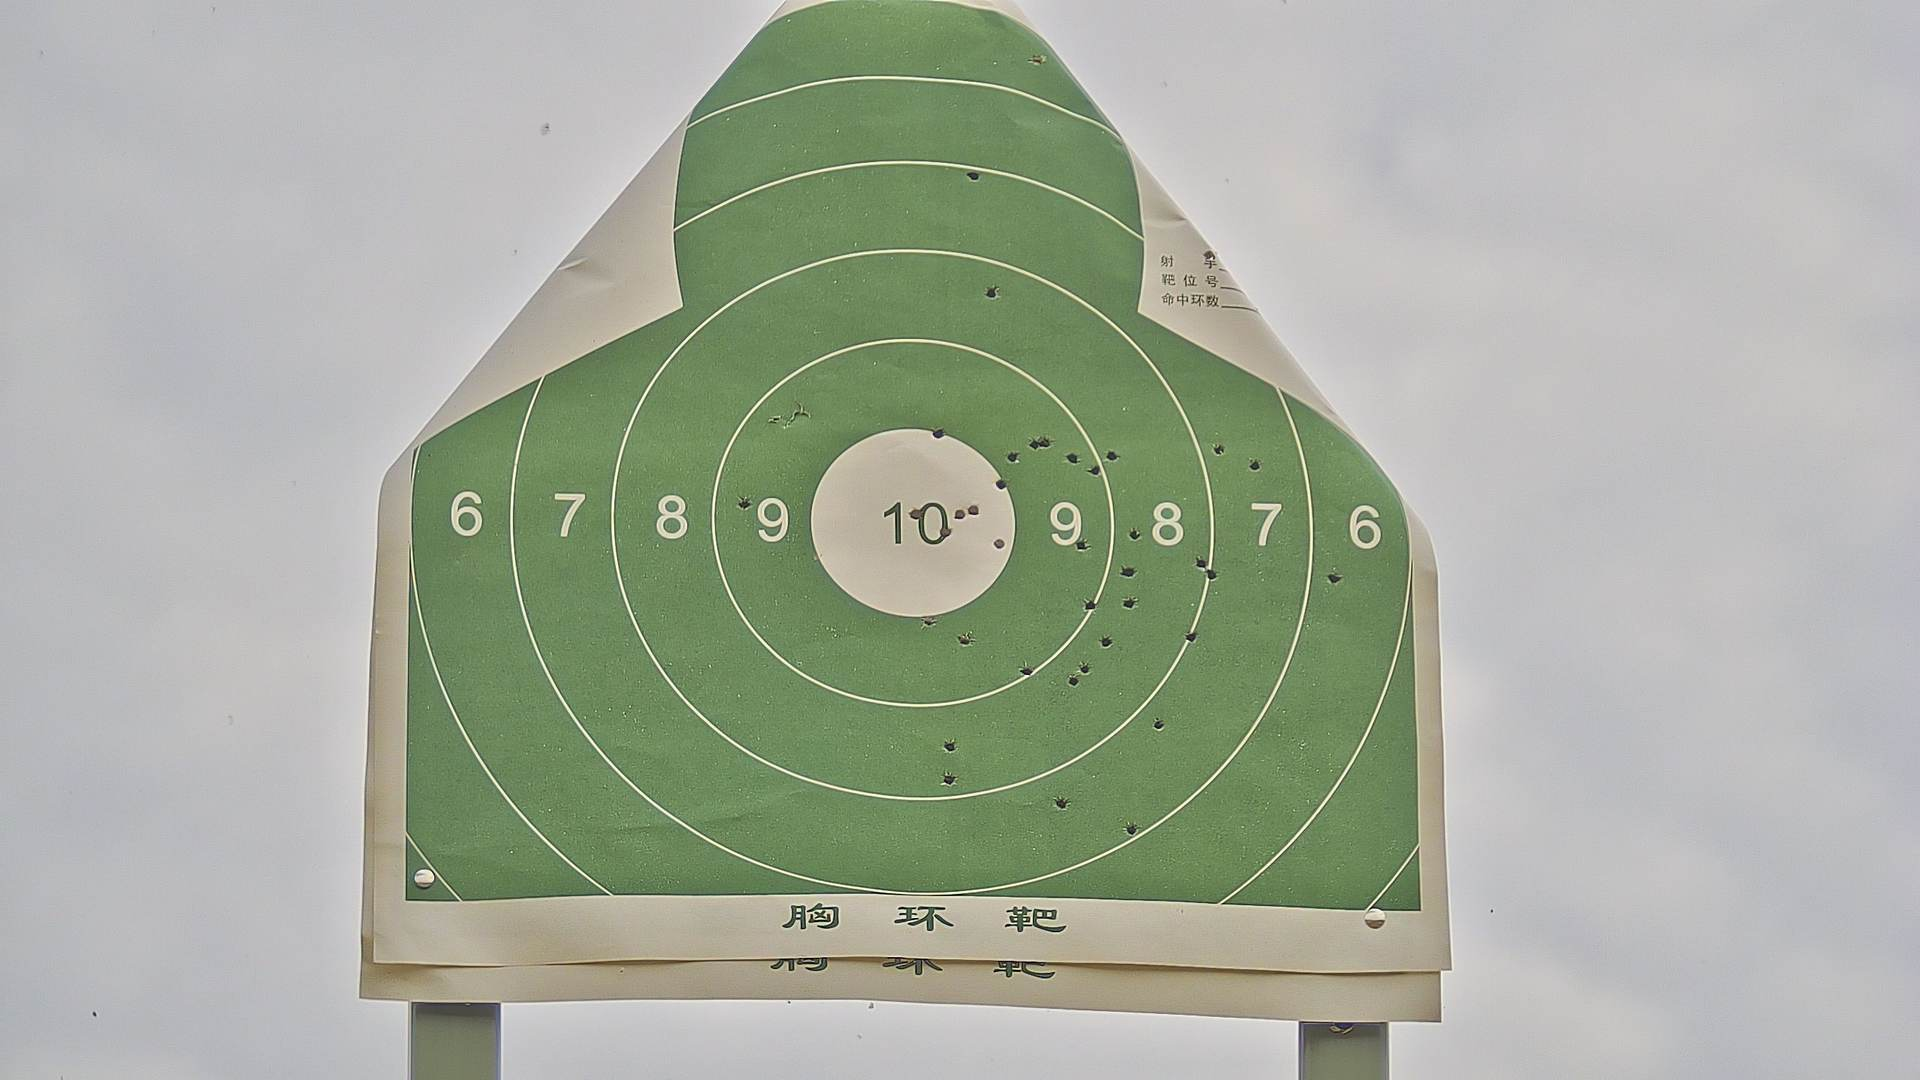hole: (732, 491, 760, 516), (1121, 592, 1146, 617), (978, 280, 1007, 301), (928, 423, 953, 444), (963, 166, 986, 187), (942, 735, 963, 757), (1324, 564, 1346, 585), (1121, 816, 1142, 837), (1051, 790, 1071, 812), (965, 498, 982, 522), (989, 533, 1009, 553), (1102, 446, 1125, 463), (940, 771, 963, 789), (935, 524, 955, 542), (1036, 431, 1056, 450), (1081, 593, 1100, 613), (955, 629, 975, 647), (1100, 633, 1120, 651), (1072, 535, 1093, 553), (1077, 662, 1098, 679), (1211, 438, 1226, 460), (993, 475, 1011, 493), (1127, 526, 1145, 546), (1249, 452, 1263, 475), (1182, 629, 1200, 646), (1203, 566, 1218, 585), (1018, 659, 1033, 680), (1067, 673, 1081, 694), (1192, 550, 1205, 572), (1120, 563, 1135, 582), (1025, 434, 1039, 454), (952, 502, 965, 524), (905, 505, 922, 521), (1064, 446, 1076, 468), (1153, 715, 1168, 731), (1088, 462, 1102, 477), (919, 613, 935, 628), (1007, 448, 1019, 467), (1030, 54, 1044, 66)
kernel: (907, 520, 909, 524)
target: (411, 13, 1425, 903)
ten: (810, 431, 1019, 624)
